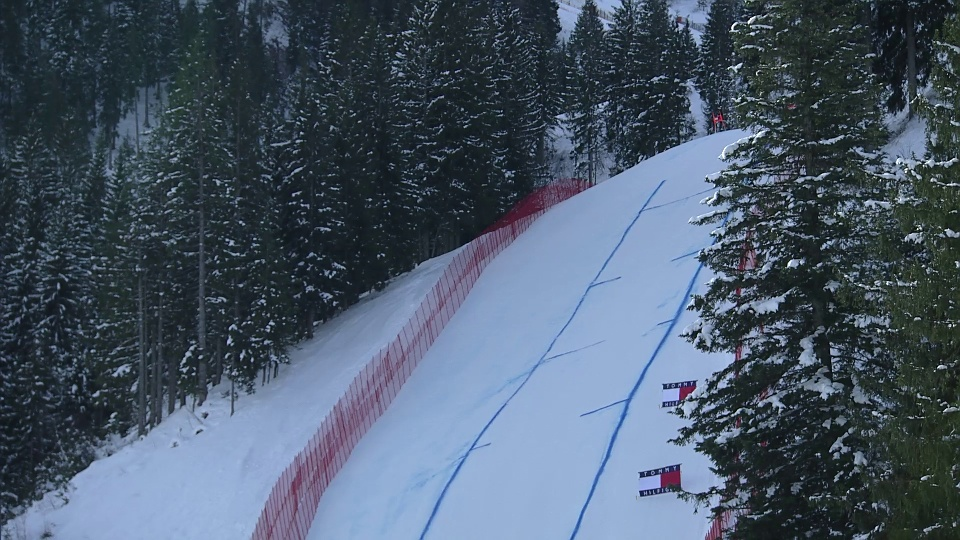tommyhilfiger: (640, 467, 682, 497), (661, 382, 700, 405)
